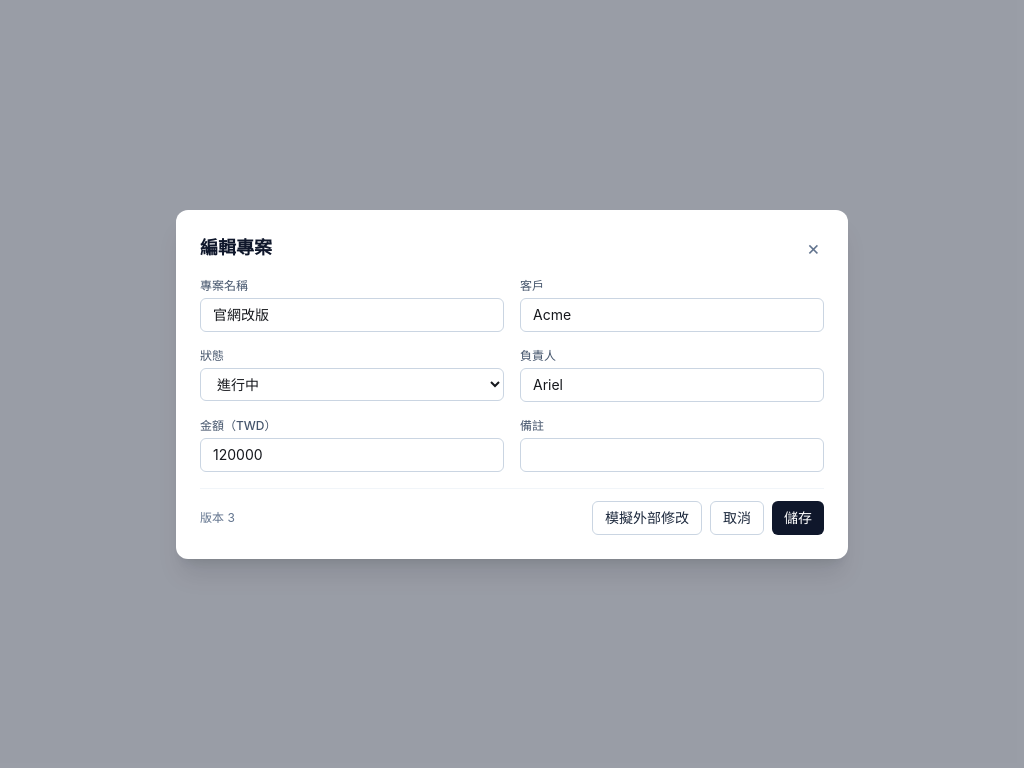
Test: RowFormDialog › 金額含逗號時阻擋送出並顯示錯誤
Replace the text in the field showing "120000" below "金額（TWD）" with "12,000" at [352, 454], box [200, 438, 504, 472]
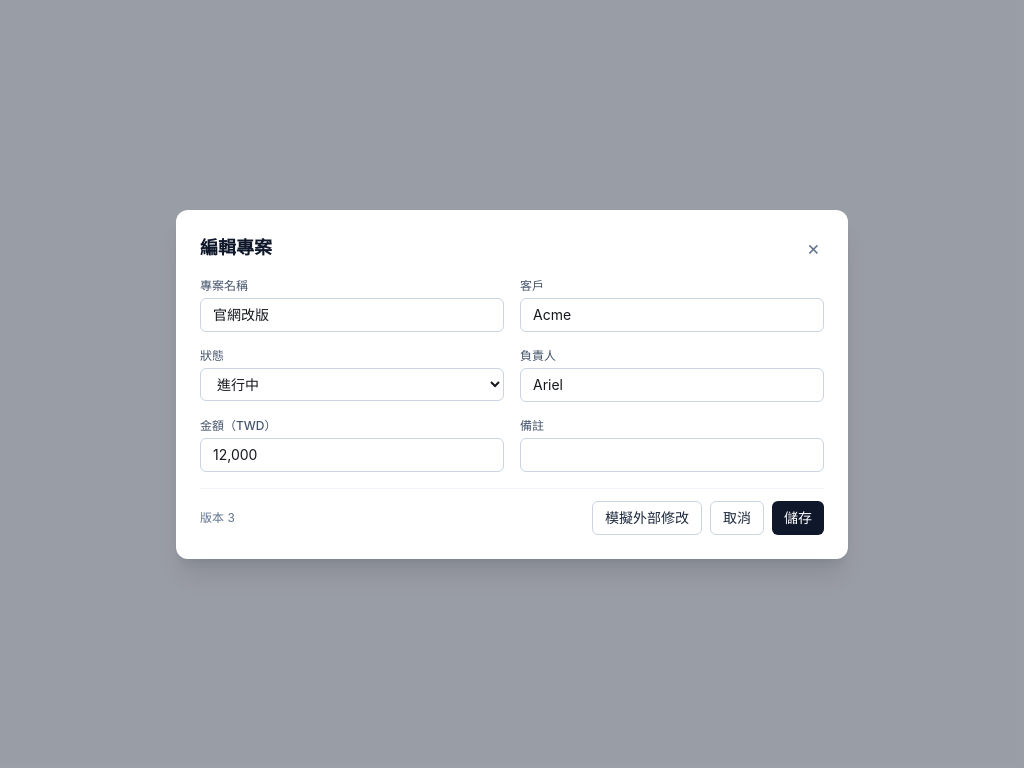
Click the button "儲存" at [798, 518], box [772, 500, 824, 534]
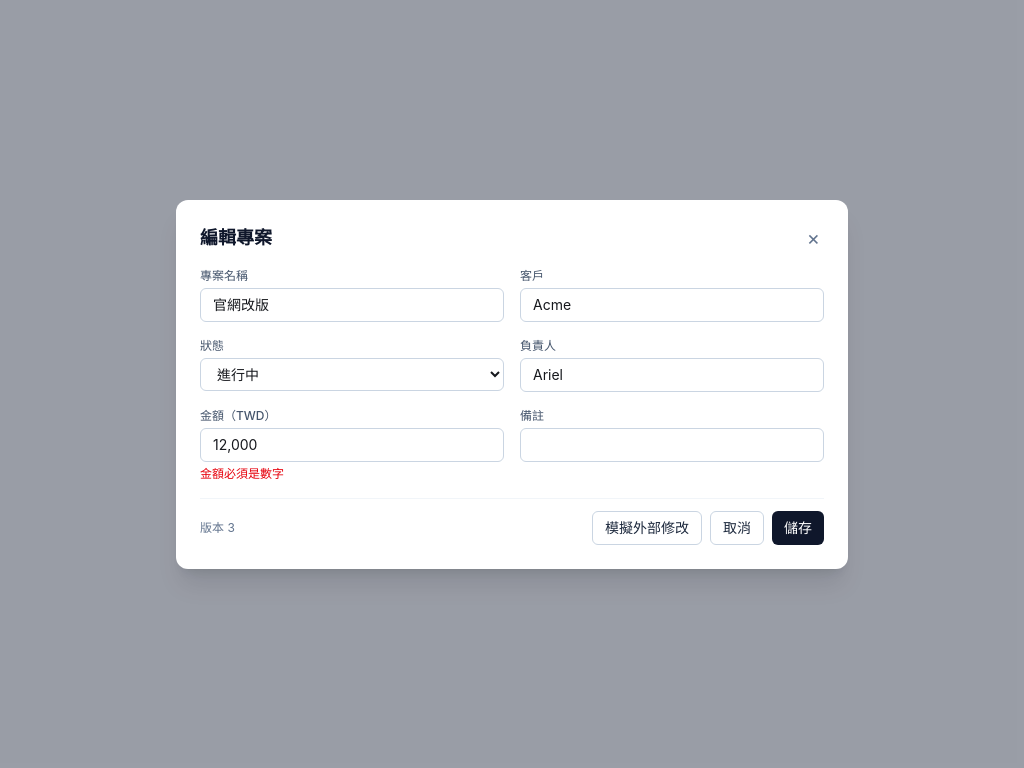
Check: the text "金額必須是數字" is shown, box [200, 466, 284, 480]
